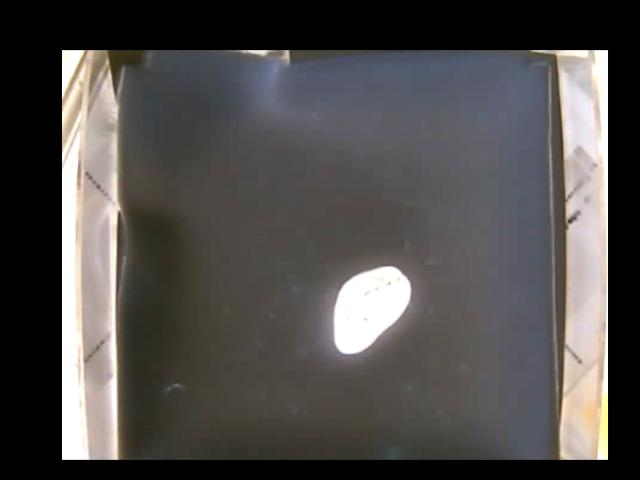Pebble: (331, 265, 410, 351)
